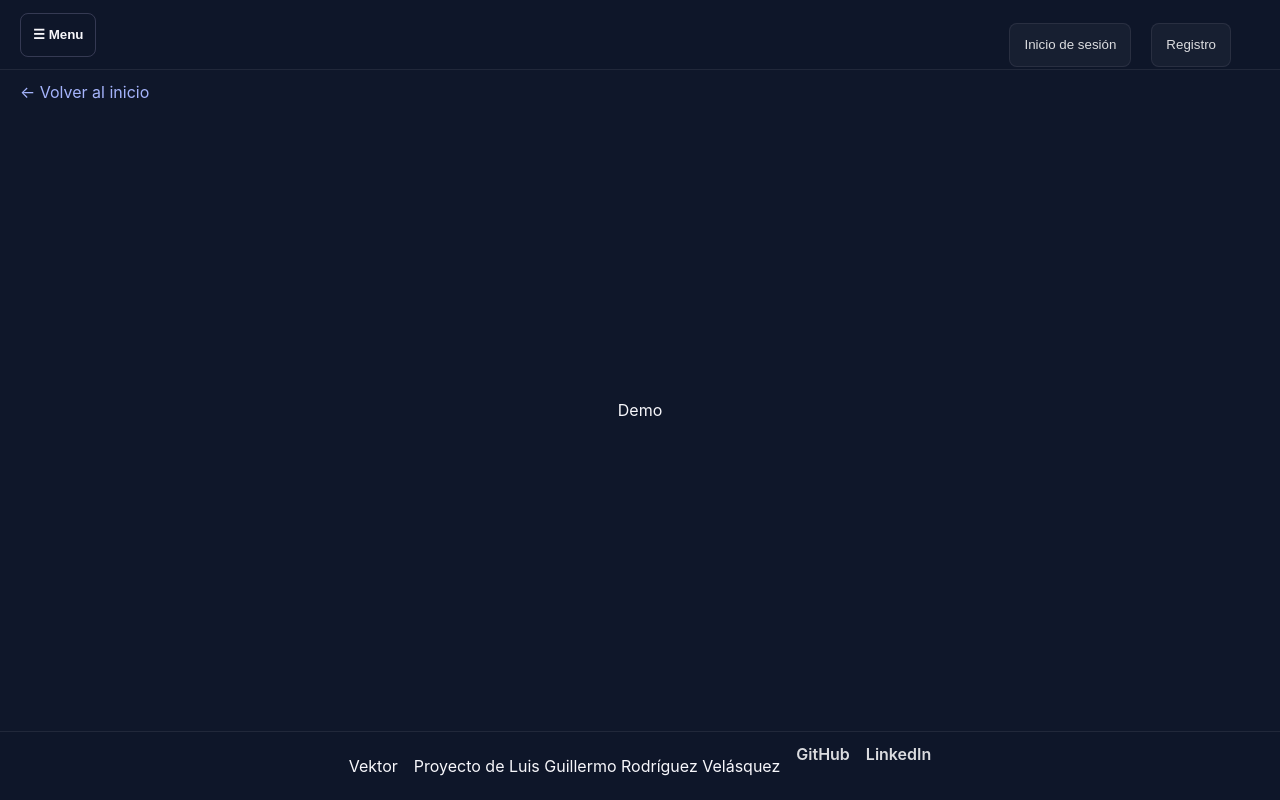
Scenario: public landing navigation › shows the shared public header, footer, and return link on interior pages
Check: the button "☰ Menu" is shown, box [20,12,96,56]
Check: the button "Inicio de sesión" is shown, box [1010,22,1131,66]
Step 1. Click the link "← Volver al inicio" → click(85, 92), box [20,82,149,102]
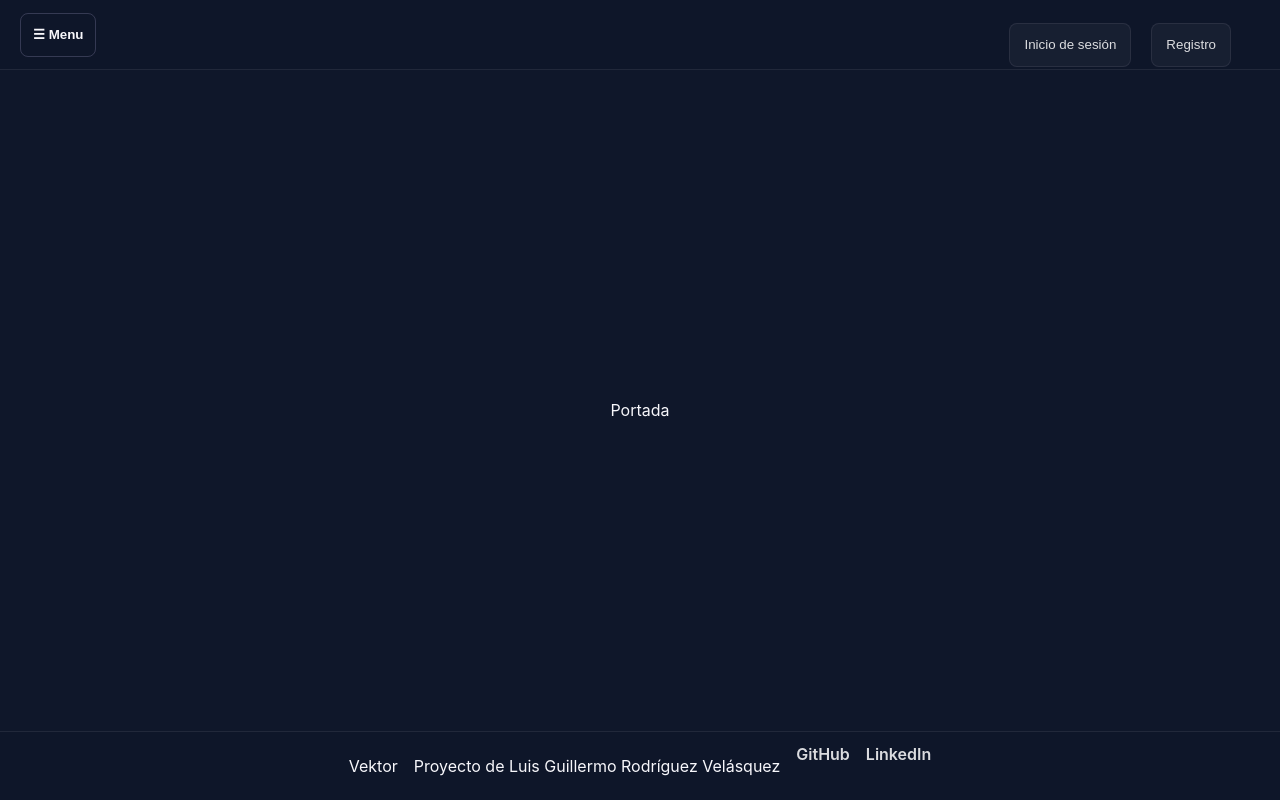
Check: the text "Portada" is shown, box [610,400,670,420]
